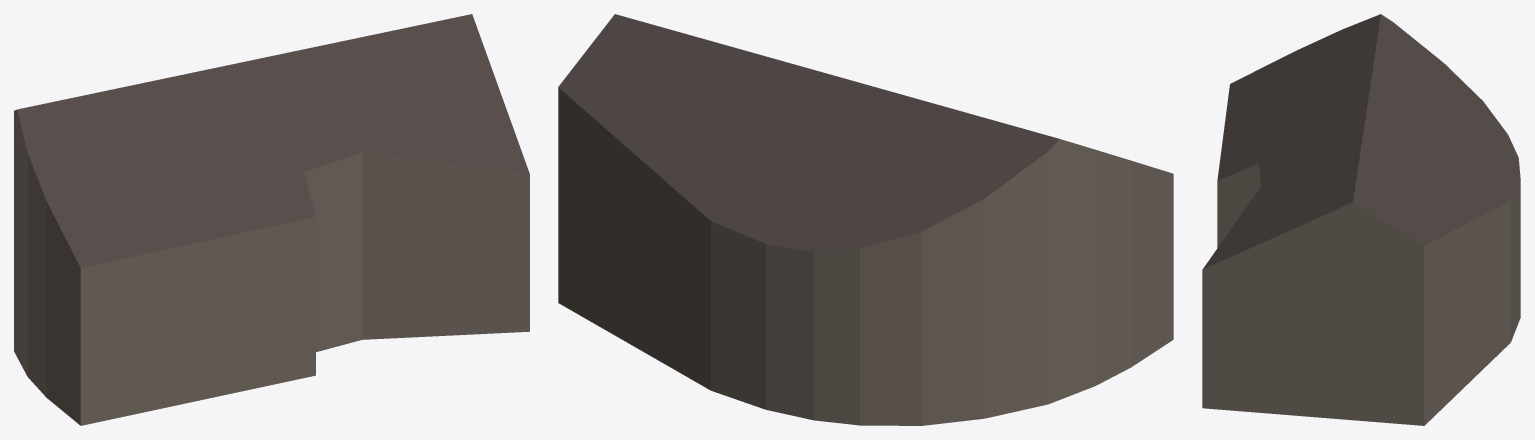
3 renders of one model, left to right at view 1: azimuth 30°, elevation 25°; view 2: azimuth 150°, elevation 25°; view 3: azimuth 270°, elevation 25°, orthographic. The views are drawn at different scales.
Parts seen in each view (by area): view 1: HP-w1198867493; view 2: HP-w1198867493; view 3: HP-w1198867493.
Boxes of the visible parts, box(x1,y1,x2,y2) form: HP-w1198867493: box(14, 14, 529, 425); HP-w1198867493: box(558, 14, 1173, 425); HP-w1198867493: box(1202, 14, 1520, 425).
Size of the model in its own units: 28.37 by 14.17 by 18.75.
